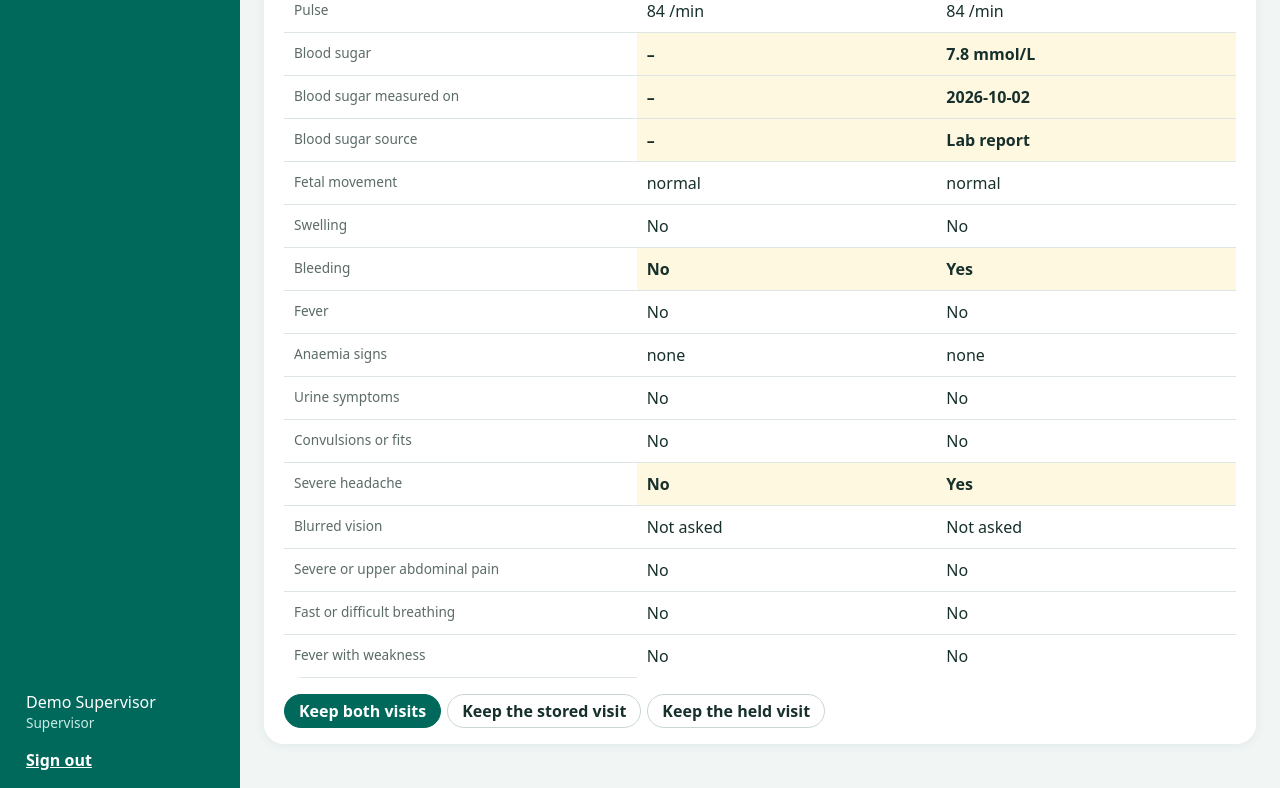
Scenario: sync conflict queue (M3 FE-2, M10) › shows an error from the API, for example a conflict decided meanwhile
(page scrolled)
Click the button "Keep both visits": (363, 710) [284,694,441,728]
(page scrolled)
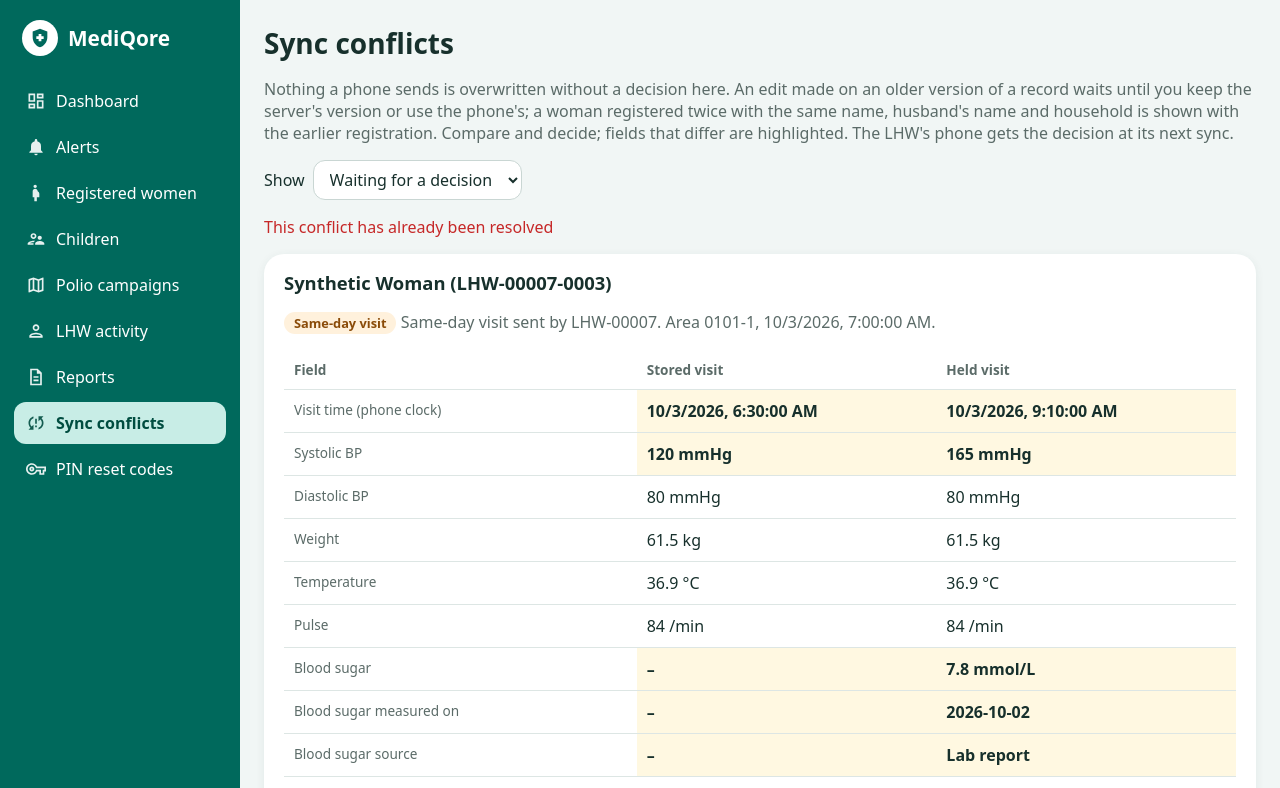
Now the message reads "This conflict has already been resolved", box [264,216,553,238]
